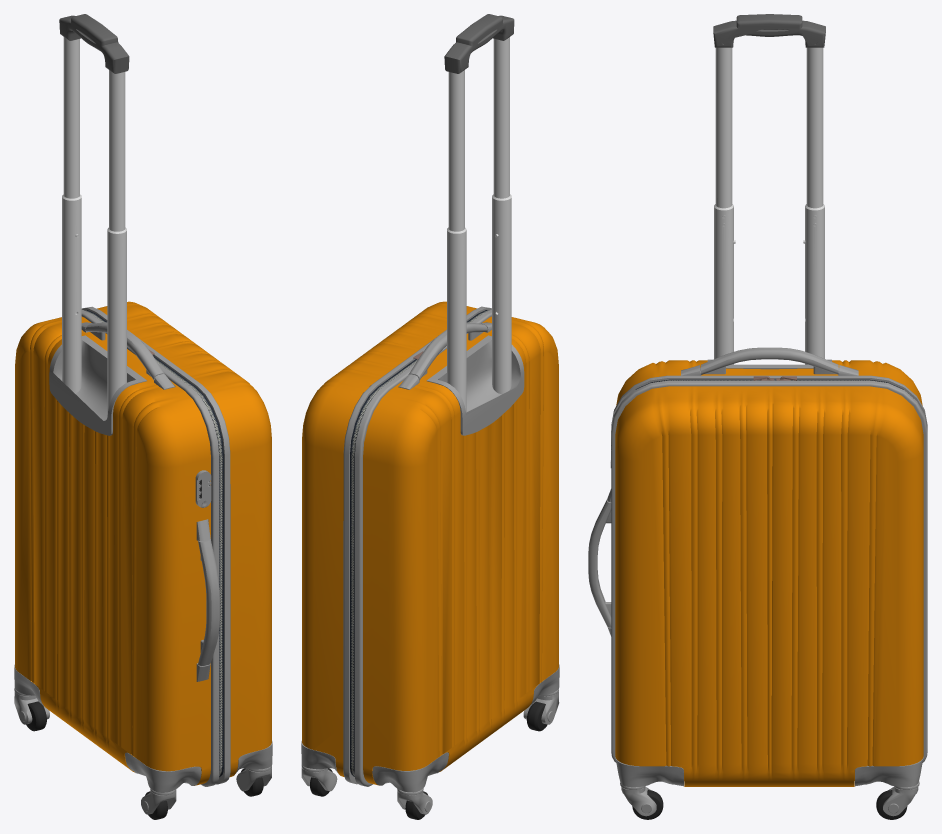
Rendered from 02 _strong_chemodan.fbx.
3 views of the same model, side by side, from view 1: azimuth 30°, elevation 25°; view 2: azimuth 150°, elevation 25°; view 3: azimuth 270°, elevation 25° (orthographic).
Visible parts, largest first — view 1: Kase, Truba02, Truba01, Vstavka, Plane.001, Ruchka.002, Plane.004, Ruchka.001, Cylinder.003, Cube; view 2: Kase, Truba02, Truba01, Vstavka, Plane.001, Plane.004, Ruchka.001, Cylinder.003; view 3: Kase, Truba02, Truba01, Plane.001, Ruchka.001, Ruchka.002, Plane.004, Cylinder.003.
Part boxes in pixels (x1,y1,x2,y2): Kase: (15, 301, 271, 786); Truba02: (59, 14, 129, 231); Truba01: (62, 194, 126, 416); Vstavka: (49, 335, 146, 435); Plane.001: (14, 664, 272, 792); Ruchka.002: (196, 519, 220, 681); Plane.004: (14, 688, 271, 814); Ruchka.001: (81, 322, 175, 389); Cylinder.003: (26, 701, 263, 819); Cube: (195, 470, 211, 507); Kase: (302, 301, 558, 786); Truba02: (444, 14, 514, 231); Truba01: (447, 194, 511, 412); Vstavka: (426, 335, 524, 435); Plane.001: (301, 664, 559, 792); Plane.004: (301, 689, 559, 814); Ruchka.001: (398, 322, 491, 389); Cylinder.003: (310, 701, 547, 819); Kase: (611, 360, 927, 786); Truba02: (713, 14, 825, 208); Truba01: (714, 204, 824, 364); Plane.001: (615, 757, 923, 787); Ruchka.001: (681, 347, 858, 375); Ruchka.002: (588, 489, 611, 636); Plane.004: (620, 781, 919, 816); Cylinder.003: (632, 790, 907, 819).
Size of the model in its own units: 246 by 1418 by 579.
